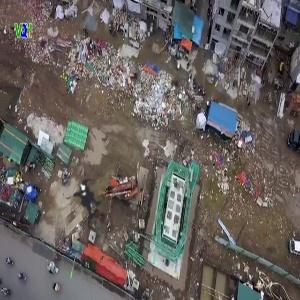drone: (17, 126, 157, 266)
